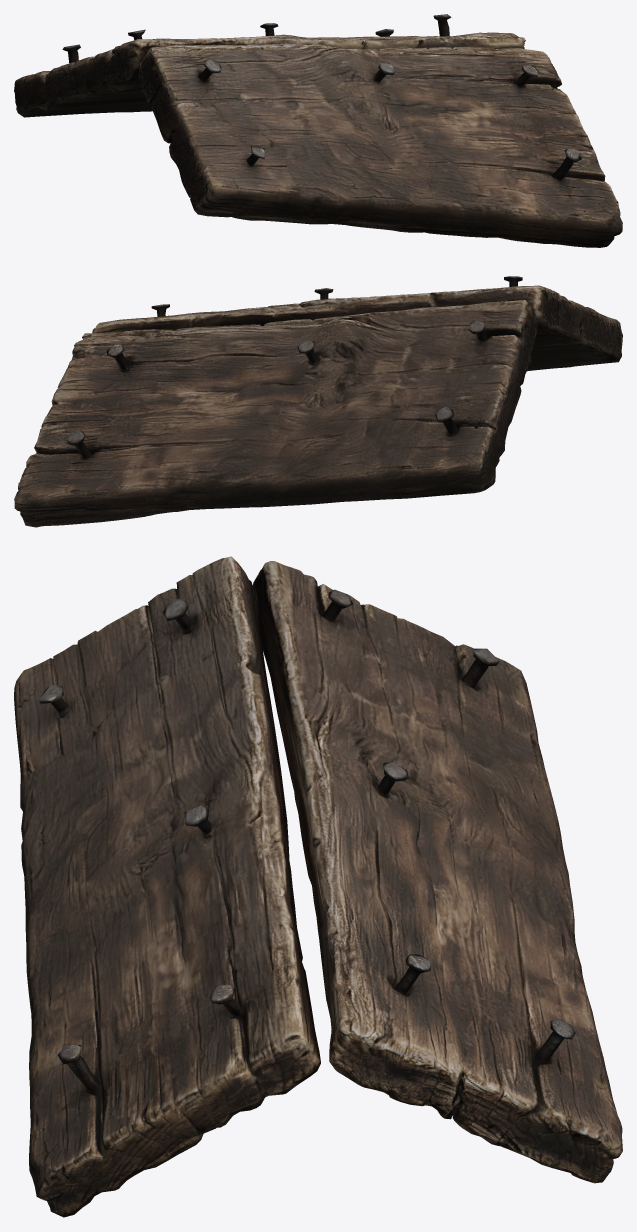
The picture shows the model from 3 angles, top to bottom: view 1: azimuth 30°, elevation 25°; view 2: azimuth 150°, elevation 25°; view 3: azimuth 270°, elevation 25°; orthographic projection. The views are drawn at different scales.
Visible parts, largest first — view 1: tripo_node_341a05b3-2605-4c0c-b18e-6b8f9b23f6a0; view 2: tripo_node_341a05b3-2605-4c0c-b18e-6b8f9b23f6a0; view 3: tripo_node_341a05b3-2605-4c0c-b18e-6b8f9b23f6a0.
Part boxes in pixels (bbox=[...]): tripo_node_341a05b3-2605-4c0c-b18e-6b8f9b23f6a0: bbox=[14, 14, 622, 247]; tripo_node_341a05b3-2605-4c0c-b18e-6b8f9b23f6a0: bbox=[14, 276, 622, 527]; tripo_node_341a05b3-2605-4c0c-b18e-6b8f9b23f6a0: bbox=[14, 556, 622, 1217].
Bounding box in the file's own units: 0.9818 × 0.5116 × 0.7555.
1 material, 1 textured.
